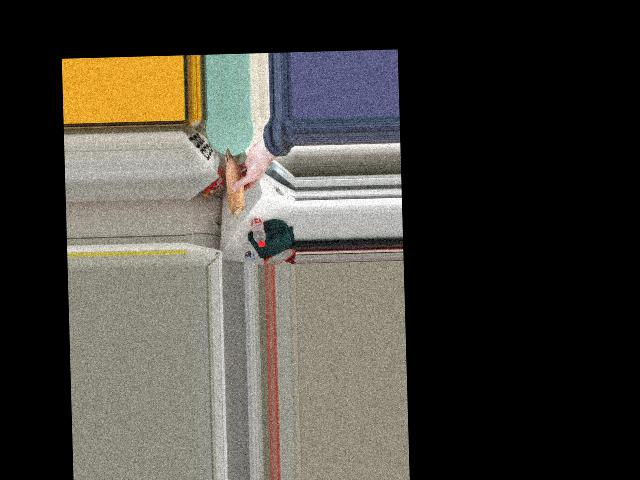sweet_potato: (224, 149, 247, 217)
